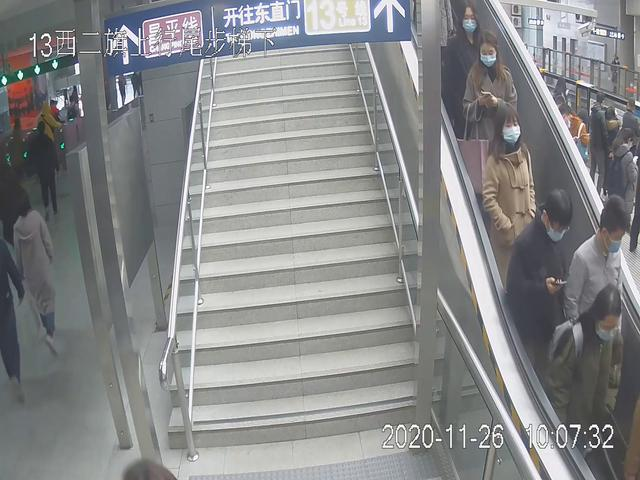person: (538, 283, 625, 474), (502, 184, 571, 393), (480, 98, 543, 312), (460, 31, 522, 220), (7, 181, 68, 363)
